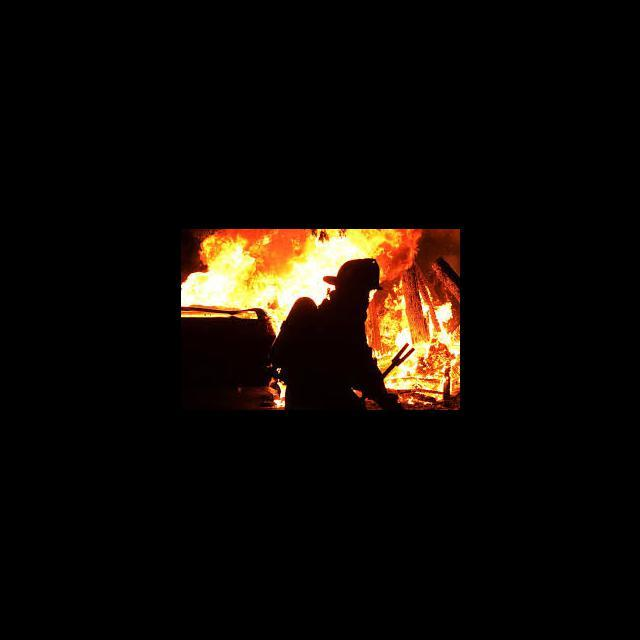Fire: (182, 232, 364, 318), (366, 236, 459, 404)
